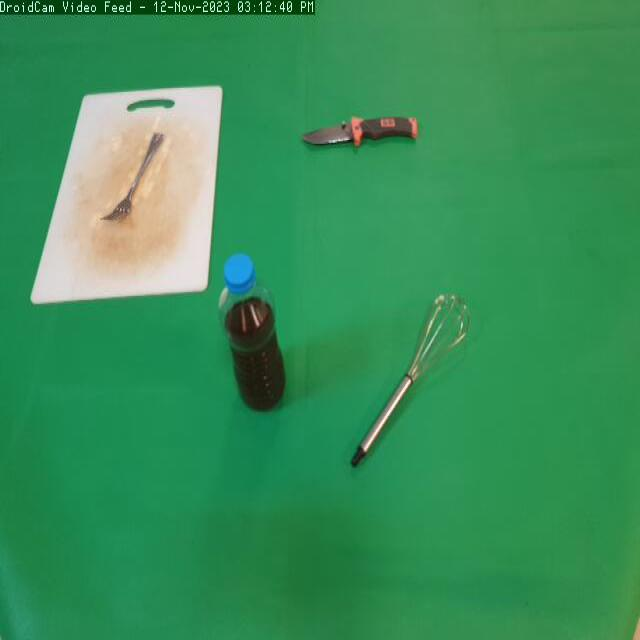cutting board: (30, 73, 242, 325)
fork: (100, 125, 166, 228)
fullbottle: (214, 246, 295, 422)
knife: (295, 101, 426, 161)
whisk: (348, 288, 500, 481)
